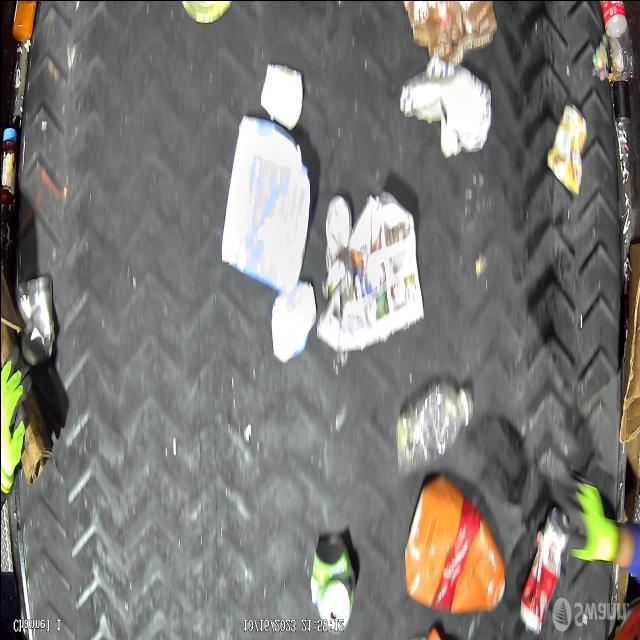can: (518, 501, 570, 633), (306, 533, 356, 633), (544, 98, 587, 198), (13, 270, 57, 364), (322, 193, 354, 301)
non_white_jug: (402, 470, 507, 612)
plastic_bottle: (393, 376, 474, 471), (597, 0, 634, 79)
